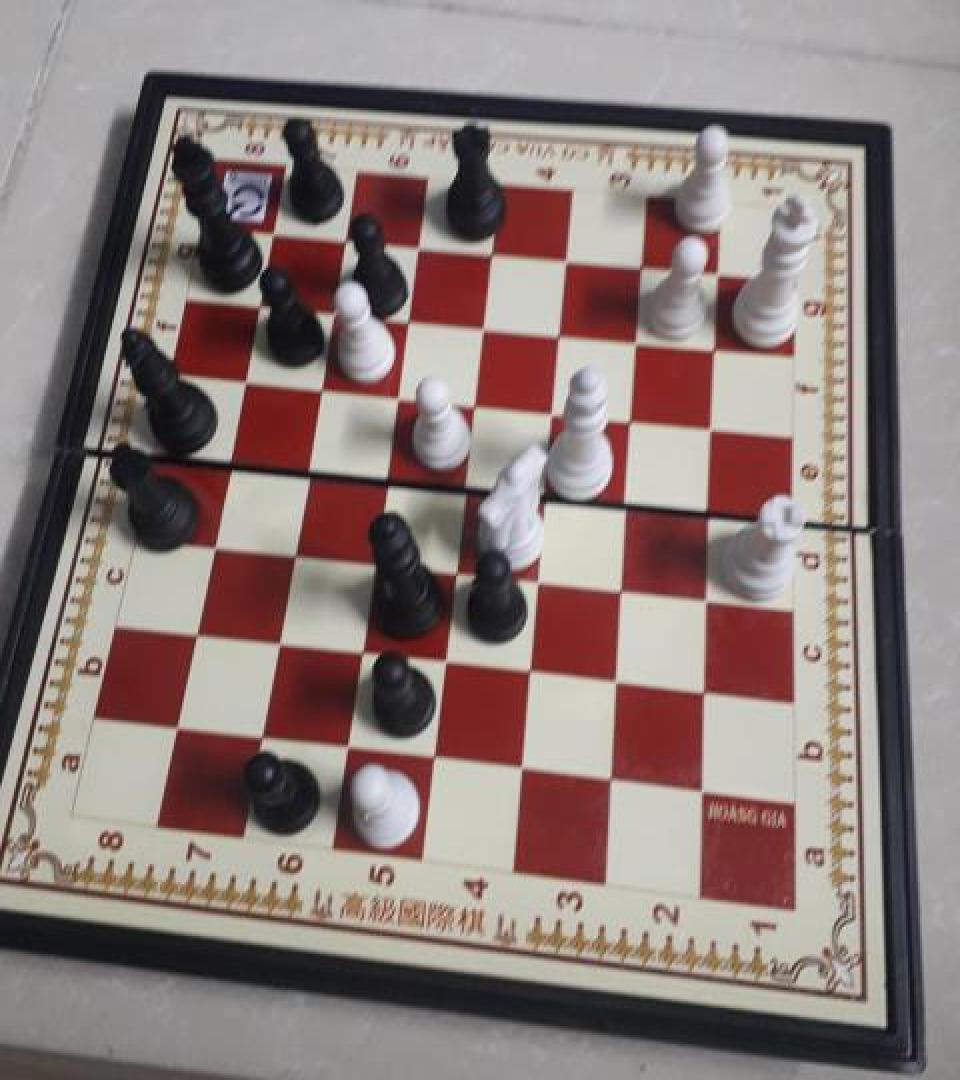xcorner: (328, 221, 358, 256), (162, 708, 192, 742), (246, 719, 276, 753), (332, 730, 362, 764), (419, 740, 449, 774), (597, 762, 627, 796), (688, 774, 718, 808), (180, 615, 210, 649), (262, 624, 292, 658), (345, 634, 375, 668), (430, 644, 460, 678), (516, 654, 546, 688), (691, 674, 721, 708), (196, 526, 226, 560), (276, 534, 306, 568), (358, 543, 388, 577), (440, 552, 470, 586), (523, 561, 553, 595), (608, 570, 638, 604), (694, 579, 724, 613), (213, 442, 243, 476), (290, 450, 320, 484), (369, 458, 399, 492), (531, 474, 561, 508), (613, 482, 643, 516), (697, 490, 727, 524), (228, 363, 258, 397), (304, 370, 334, 404), (381, 377, 411, 411), (459, 384, 489, 418), (538, 392, 568, 426), (618, 398, 648, 432), (699, 406, 729, 440), (242, 288, 272, 322), (391, 300, 421, 334), (467, 307, 497, 341), (544, 312, 574, 346), (702, 326, 732, 360), (256, 216, 286, 250), (401, 227, 431, 261), (476, 233, 506, 267), (551, 238, 581, 272), (627, 245, 657, 279), (704, 251, 734, 285), (507, 752, 537, 785), (603, 664, 633, 697), (450, 466, 480, 499), (316, 294, 346, 327), (623, 320, 653, 353)
